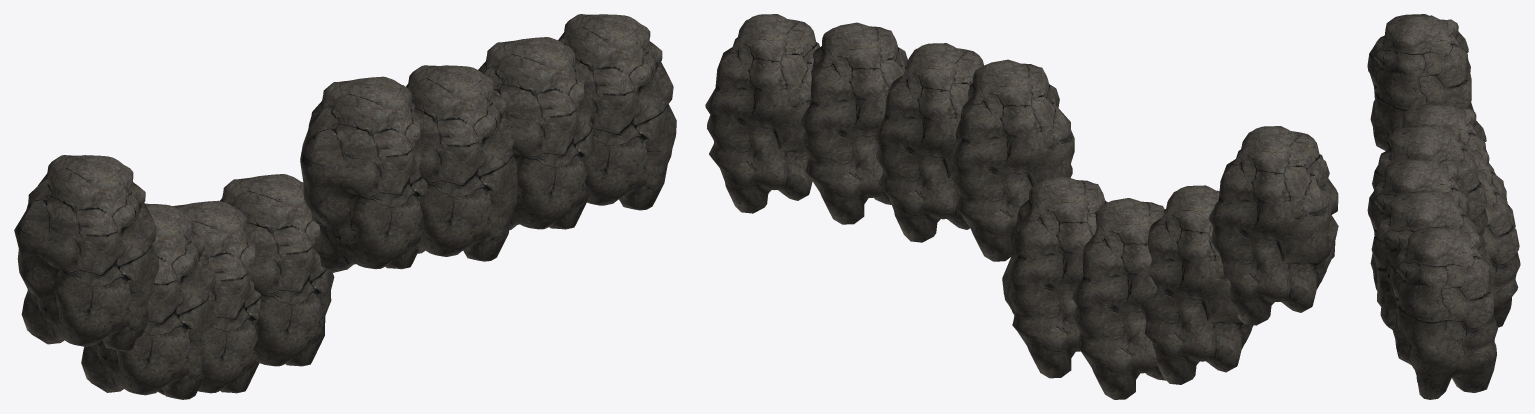
File: TwinPeakRocksShape4.dae
3 views of the same model, side by side, from view 1: azimuth 30°, elevation 25°; view 2: azimuth 150°, elevation 25°; view 3: azimuth 270°, elevation 25° (orthographic). The views are drawn at different scales.
Visible parts, largest first — view 1: TwinPeakRocks4; view 2: TwinPeakRocks4; view 3: TwinPeakRocks4.
Boxes of the visible parts, x1,y1,x2,y2 form: TwinPeakRocks4: (14, 14, 676, 399); TwinPeakRocks4: (705, 14, 1338, 399); TwinPeakRocks4: (1367, 14, 1520, 399).
Size of the model in its own units: 216 by 92.59 by 52.88.
